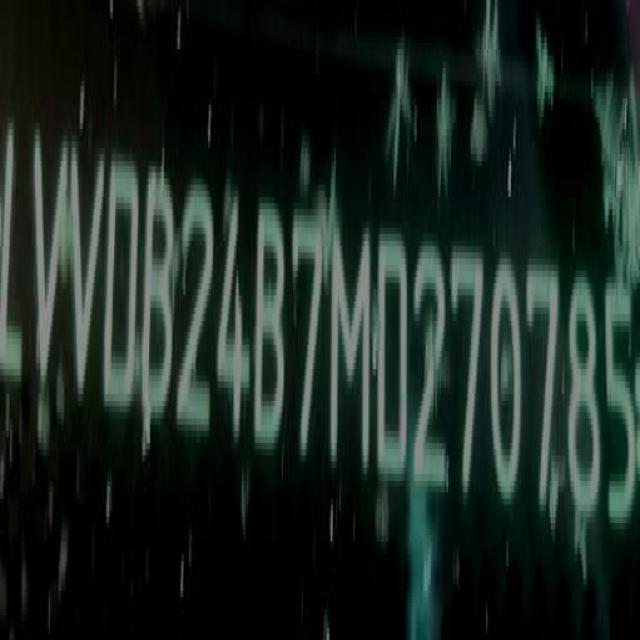0: (491, 245, 524, 510)
2: (179, 168, 215, 449), (415, 232, 449, 498)
4: (216, 179, 251, 454)
5: (606, 274, 639, 537)
7: (293, 198, 330, 477), (454, 233, 486, 508), (528, 249, 560, 520)
8: (566, 266, 602, 533)
B: (255, 187, 288, 459), (142, 166, 175, 422)
D: (104, 143, 143, 426), (377, 222, 413, 492)
L: (0, 104, 26, 412)
M: (330, 206, 374, 483)
V: (70, 146, 105, 417), (32, 133, 68, 393)
